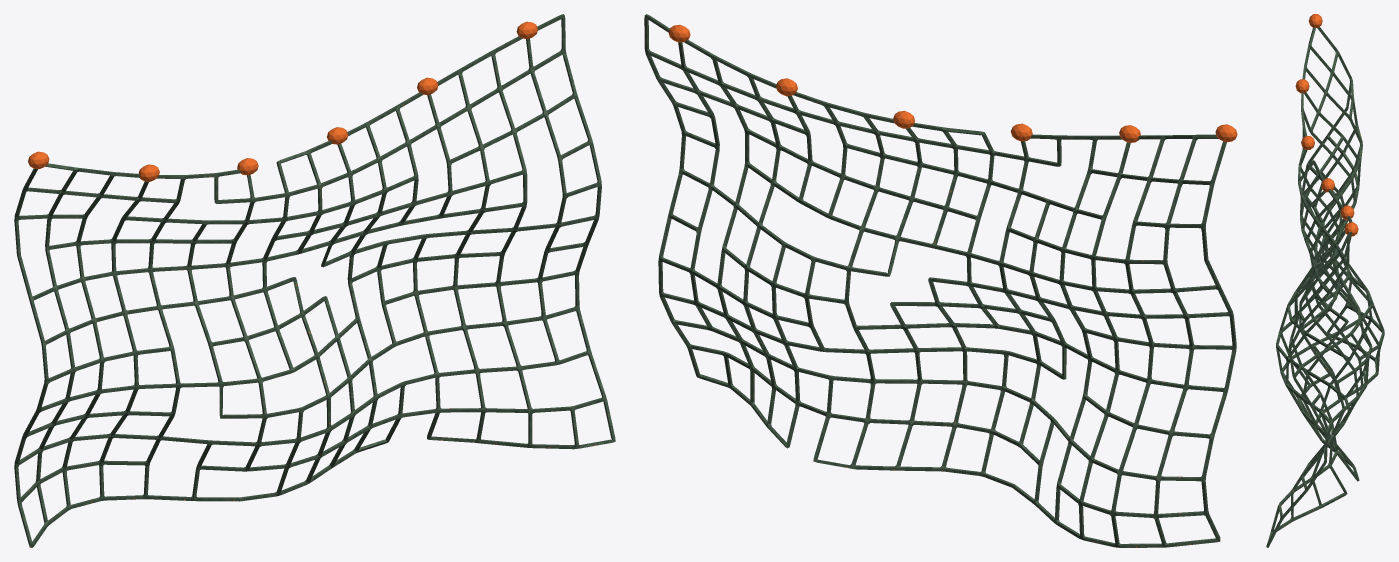
File: red_fantasma.fbx
3 renders of one model, left to right at view 1: azimuth 30°, elevation 25°; view 2: azimuth 150°, elevation 25°; view 3: azimuth 270°, elevation 25°, orthographic. The views are drawn at different scales.
Visible parts, largest first — view 1: red_fantasma; view 2: red_fantasma; view 3: red_fantasma.
Boxes of the visible parts, box(x1,y1,x2,y2) form: red_fantasma: box(14, 14, 615, 547); red_fantasma: box(644, 14, 1237, 547); red_fantasma: box(1266, 14, 1384, 547).
Size of the model in its own units: 5.1 by 3.52 by 1.18.
1 material, 1 textured.
